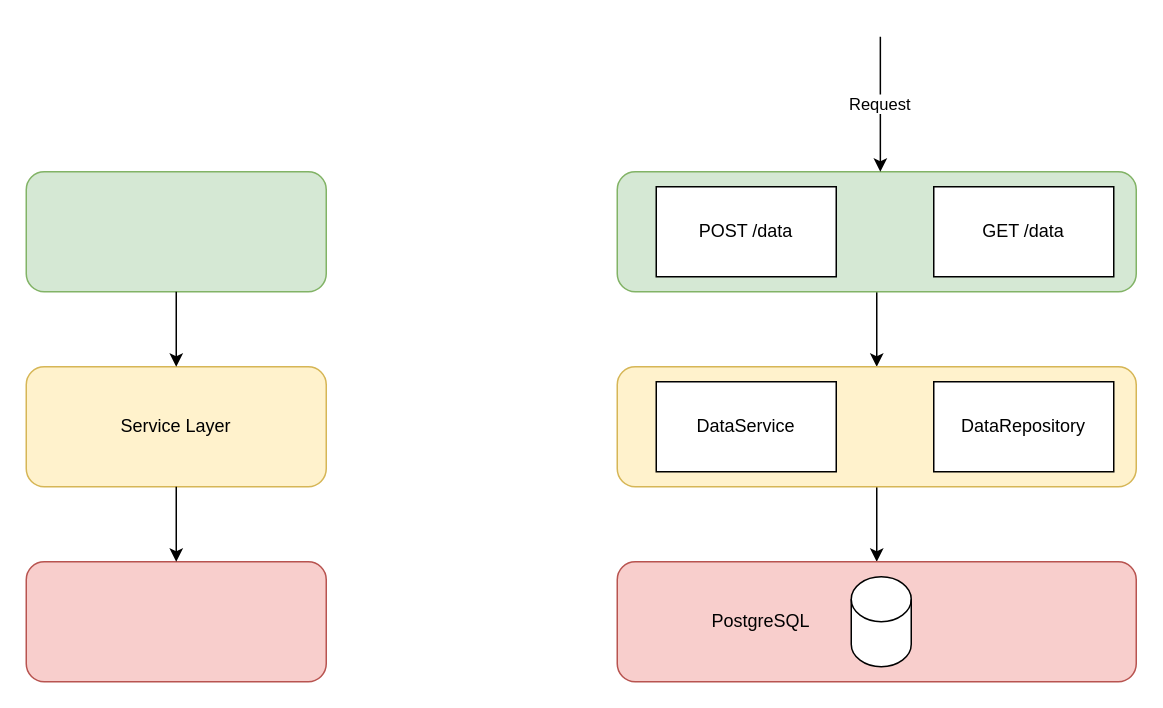
This 1163x708 diagram has some shape labels left out. Here are the shapes that lost their labels. From the top down, the box of each, then its label:
(25, 170, 326, 292): API Layer
(25, 560, 326, 682): Database Layer (PostgreSQL)
